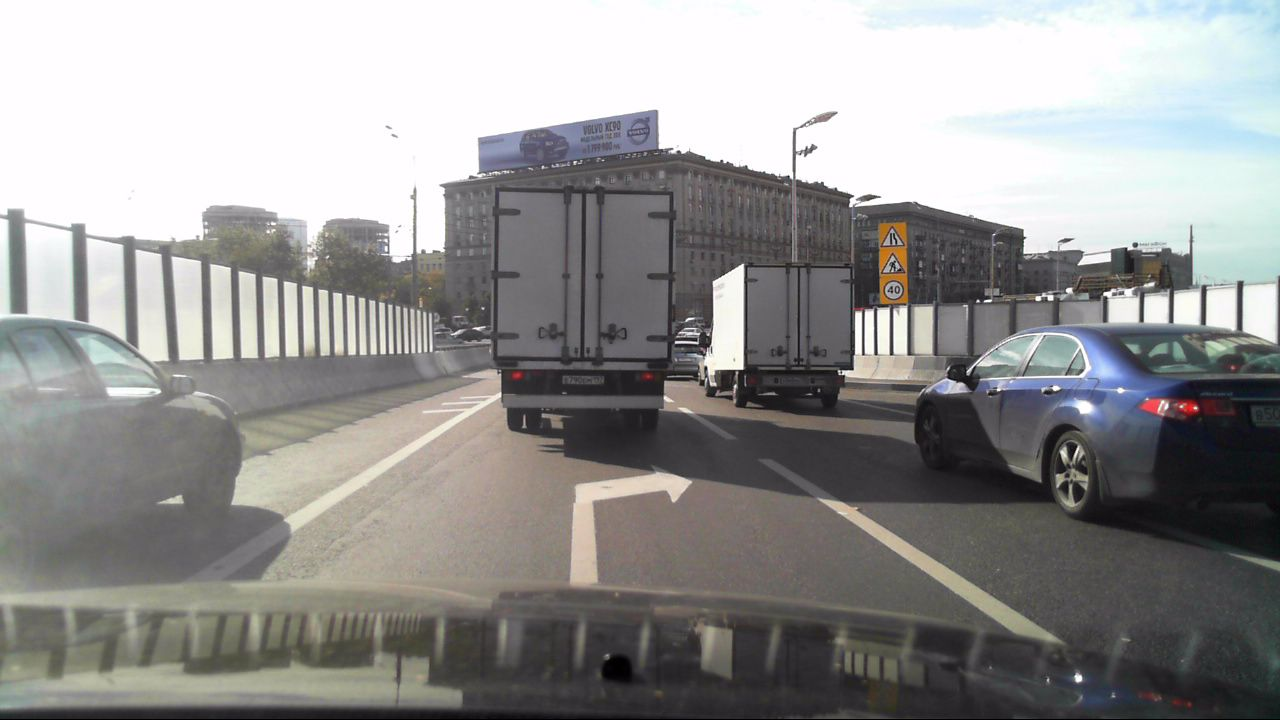speed_warning_40: (879, 273, 907, 304)
